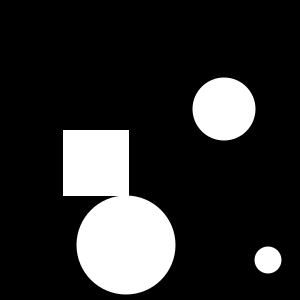circle: (63, 130, 129, 196)
rectangle: (76, 195, 176, 294), (193, 78, 256, 140), (254, 246, 282, 274)
